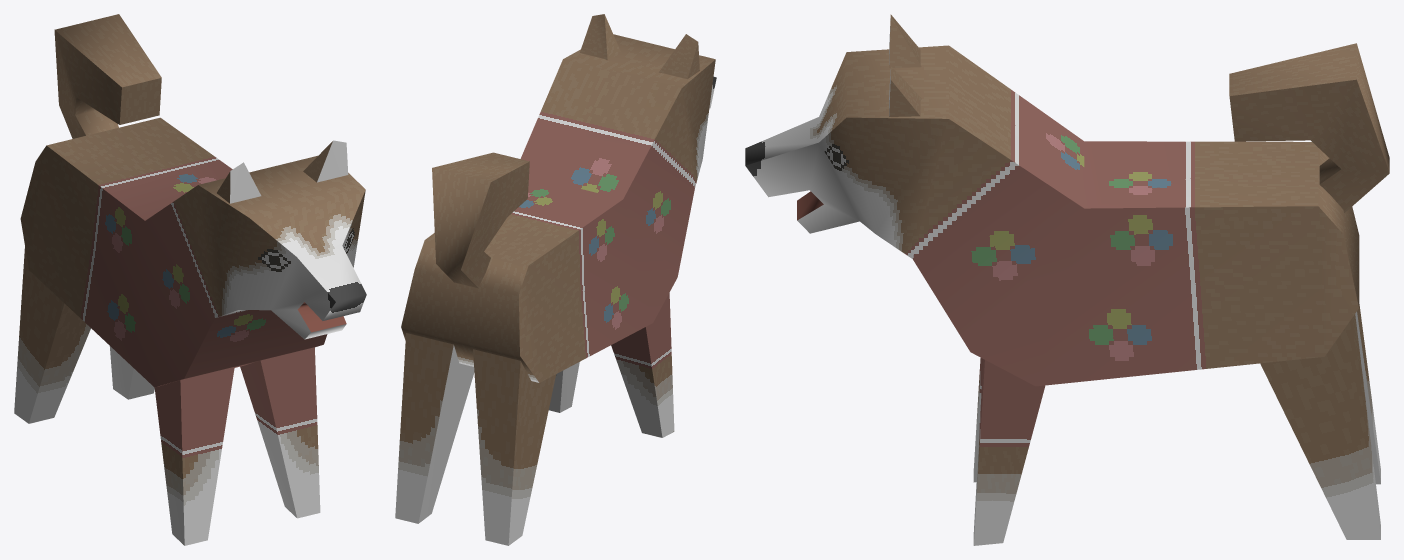
File: 01f7_Doggy.glb
The picture shows the model from 3 angles, left to right: view 1: azimuth 30°, elevation 25°; view 2: azimuth 150°, elevation 25°; view 3: azimuth 270°, elevation 25°; orthographic projection. The views are drawn at different scales.
Parts seen in each view (by area): view 1: part_0; view 2: part_0; view 3: part_0.
Part boxes in pixels (box(x1,y1,x2,y2)): part_0: box(14, 14, 366, 545); part_0: box(395, 14, 716, 545); part_0: box(745, 14, 1389, 545).
Bounding box in the file's own units: 0.1204 × 0.3246 × 0.4058.
1 material, 1 textured.
